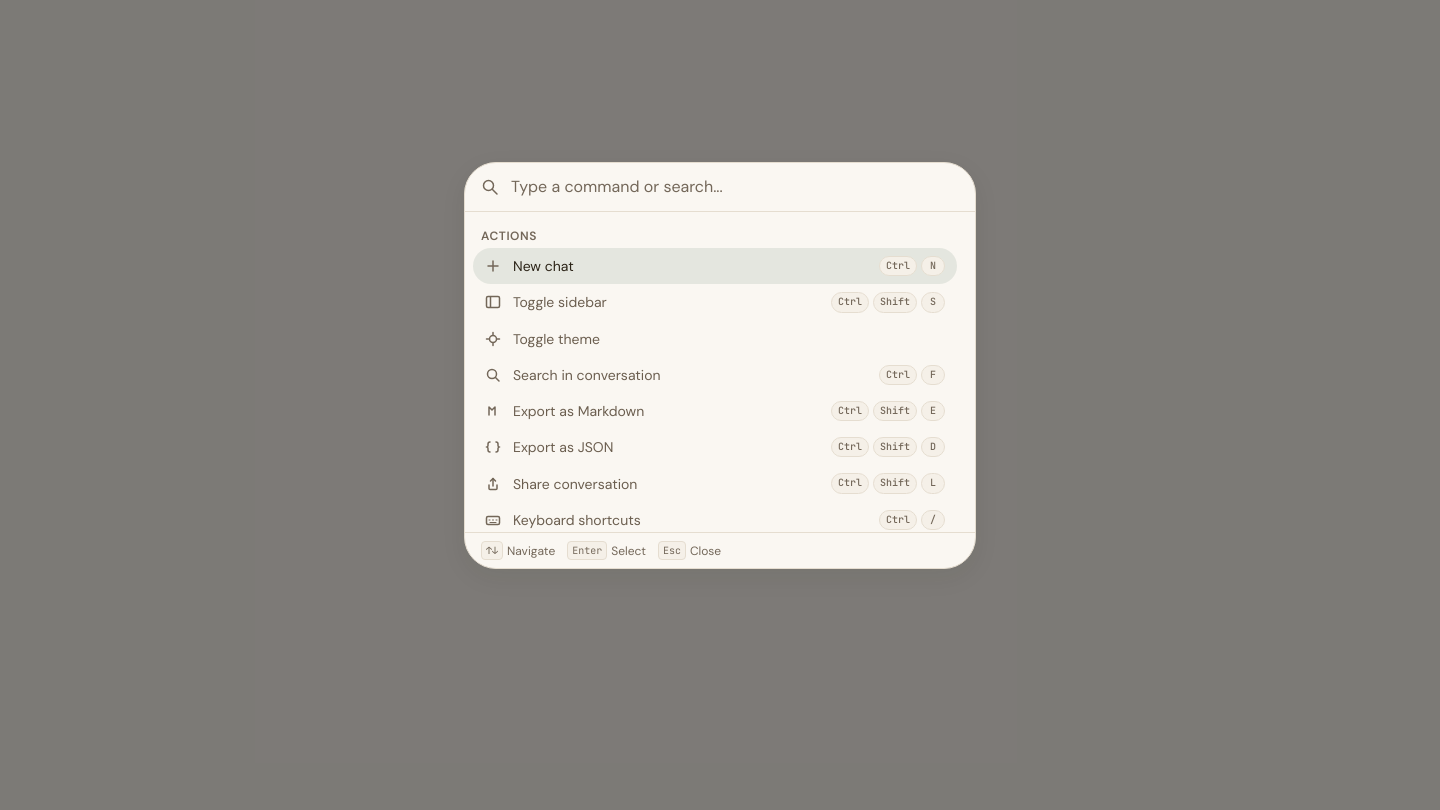
Test case: CommandPalette › filters conversations by title
The image size is (1440, 810).
In the dropdown named "Search commands": (735, 187) [511,175,959,199], type "first"
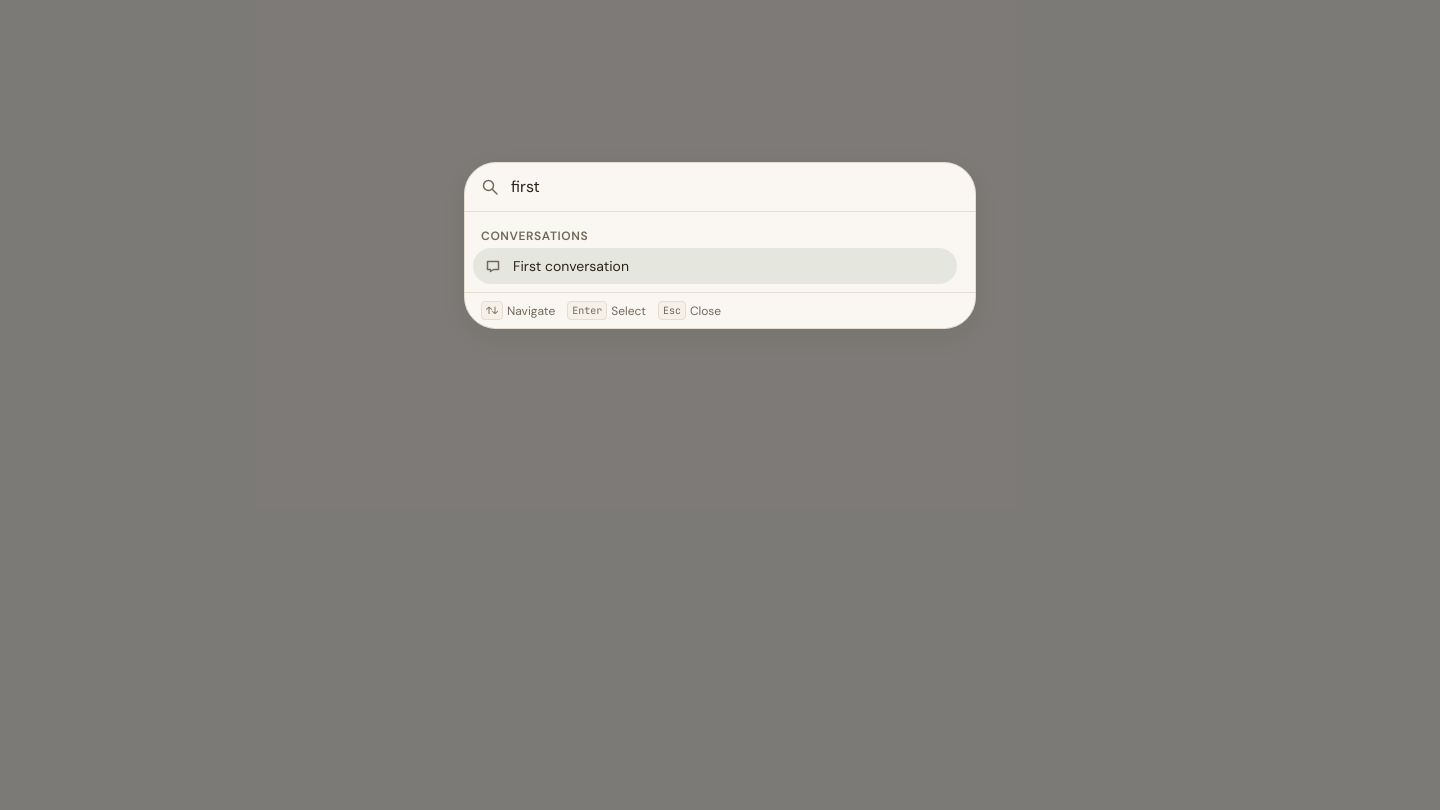
Expected: the text "Second conversation" is not shown
Expected: the text "First conversation" is shown, [513,257,629,275]
